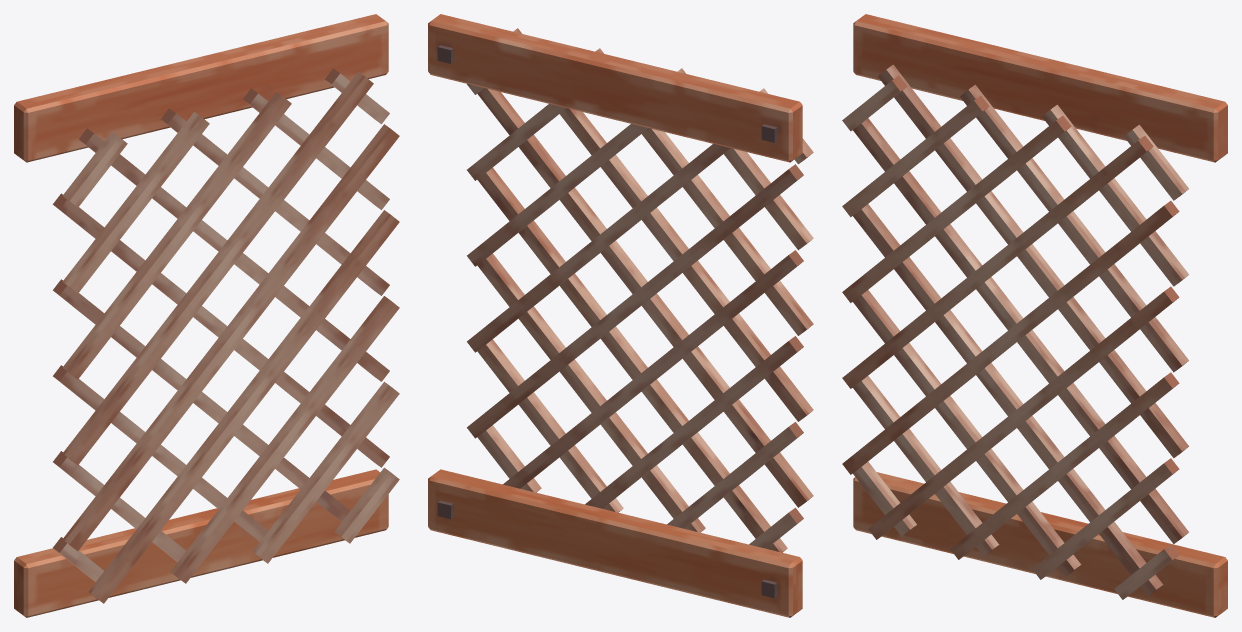
The model's file is wall_window_window.fbx.
3 renders of one model, left to right at view 1: azimuth 30°, elevation 25°; view 2: azimuth 150°, elevation 25°; view 3: azimuth 330°, elevation 25°, orthographic.
Visible parts, largest first — view 1: wall_window_window; view 2: wall_window_window; view 3: wall_window_window.
Boxes of the visible parts, bbox=[...] form: wall_window_window: bbox=[14, 14, 399, 617]; wall_window_window: bbox=[428, 14, 813, 617]; wall_window_window: bbox=[842, 14, 1227, 617].
Bounding box in the file's own units: 3.9 × 5.2 × 0.785.
